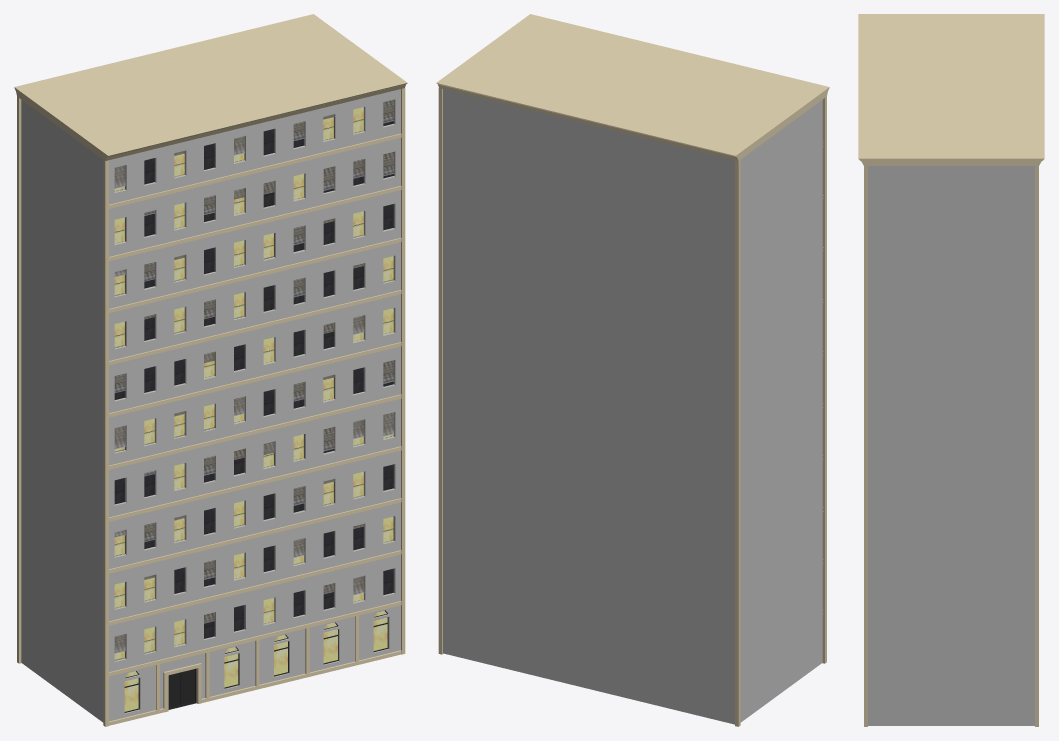
The model's file is Bloc_032F.fbx.
3 renders of one model, left to right at view 1: azimuth 30°, elevation 25°; view 2: azimuth 150°, elevation 25°; view 3: azimuth 270°, elevation 25°, orthographic.
Parts seen in each view (by area): view 1: Bloc_32F; view 2: Bloc_32F; view 3: Bloc_32F.
Boxes of the visible parts, bbox=[...] form: Bloc_32F: bbox=[14, 14, 407, 726]; Bloc_32F: bbox=[436, 14, 829, 726]; Bloc_32F: bbox=[858, 14, 1044, 726].
Bounding box in the file's own units: 982 × 3300 × 1807.
